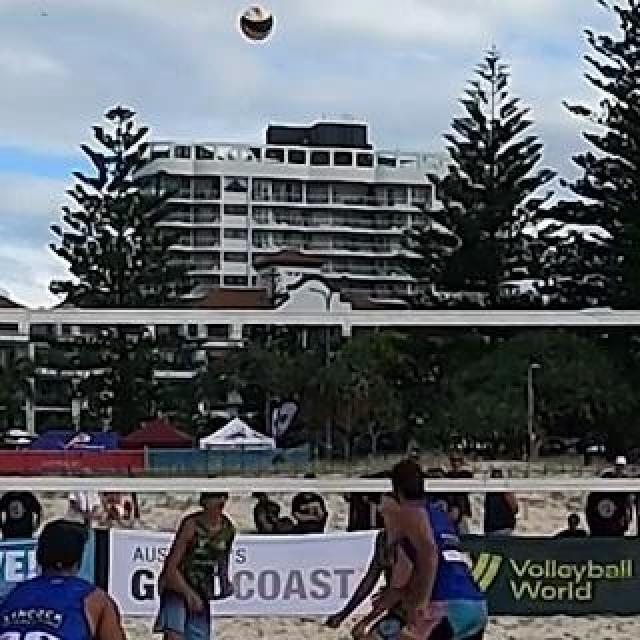volleyball: (240, 8, 276, 42)
